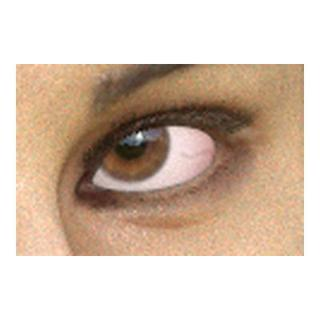pupil: (113, 126, 146, 159)
